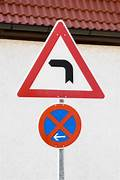left: (14, 19, 105, 99)
